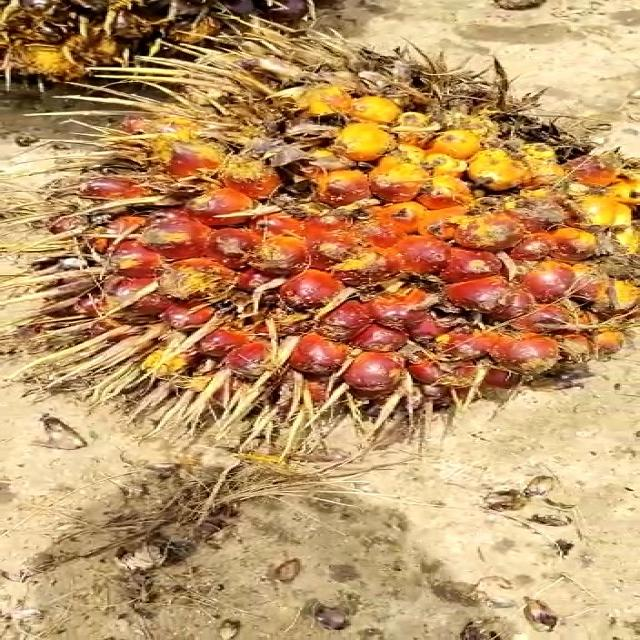palm oil: (59, 51, 640, 413)
